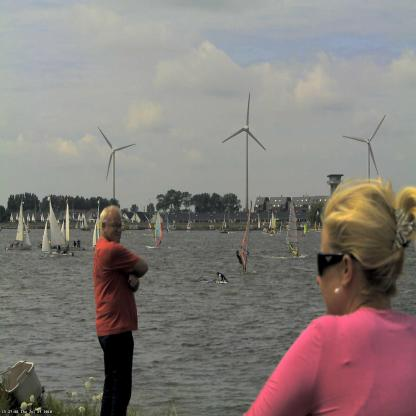other: (313, 167, 406, 281), (84, 230, 152, 336)
